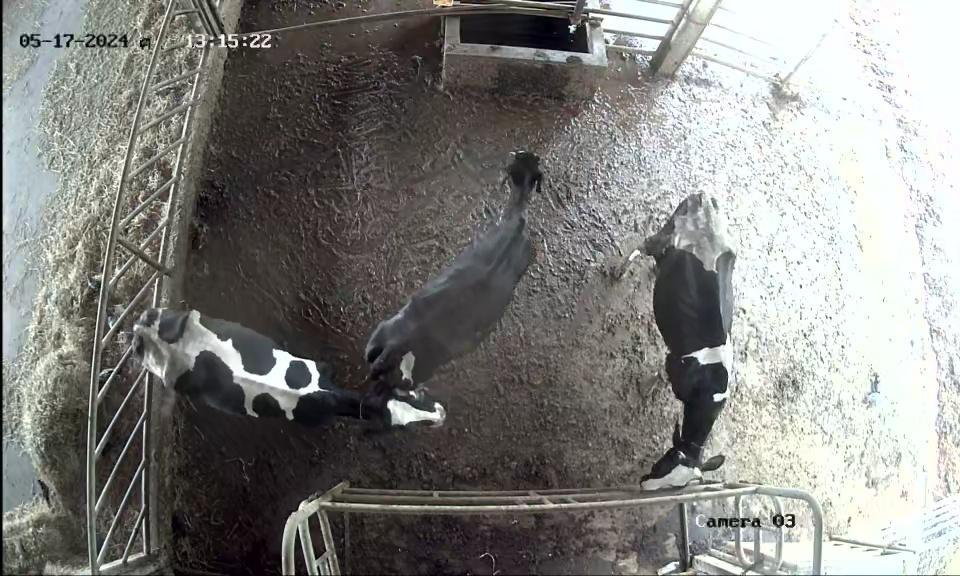stand: (353, 142, 559, 394), (129, 300, 459, 454), (614, 179, 742, 492)
